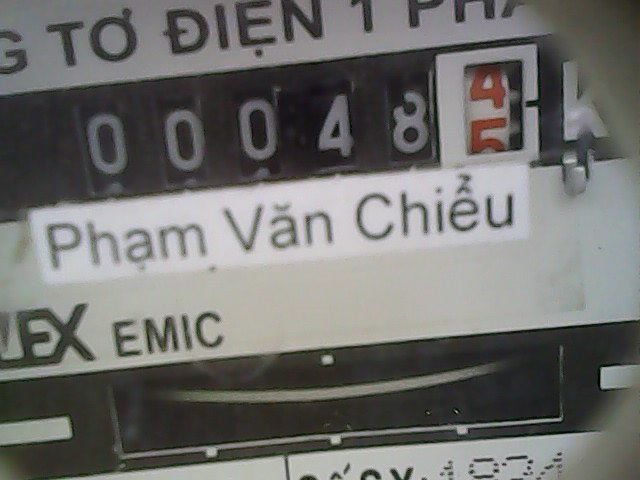phy_plate: (60, 44, 551, 187)
